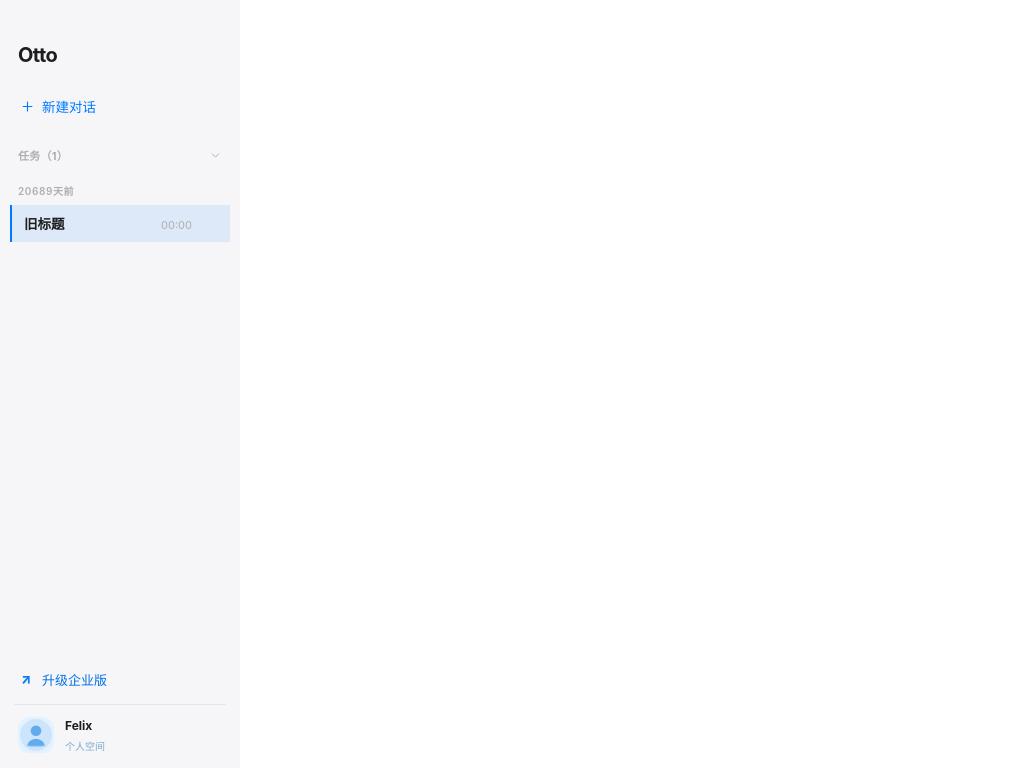
Test: Sidebar：布局（工具区已迁右侧面板） › 个人版可在客户端内提交企业邀请码升级，成功后关闭弹窗
The image size is (1024, 768).
Click the button "↗ 升级企业版" at {"x": 120, "y": 679}, box 14,663 -> 226,696
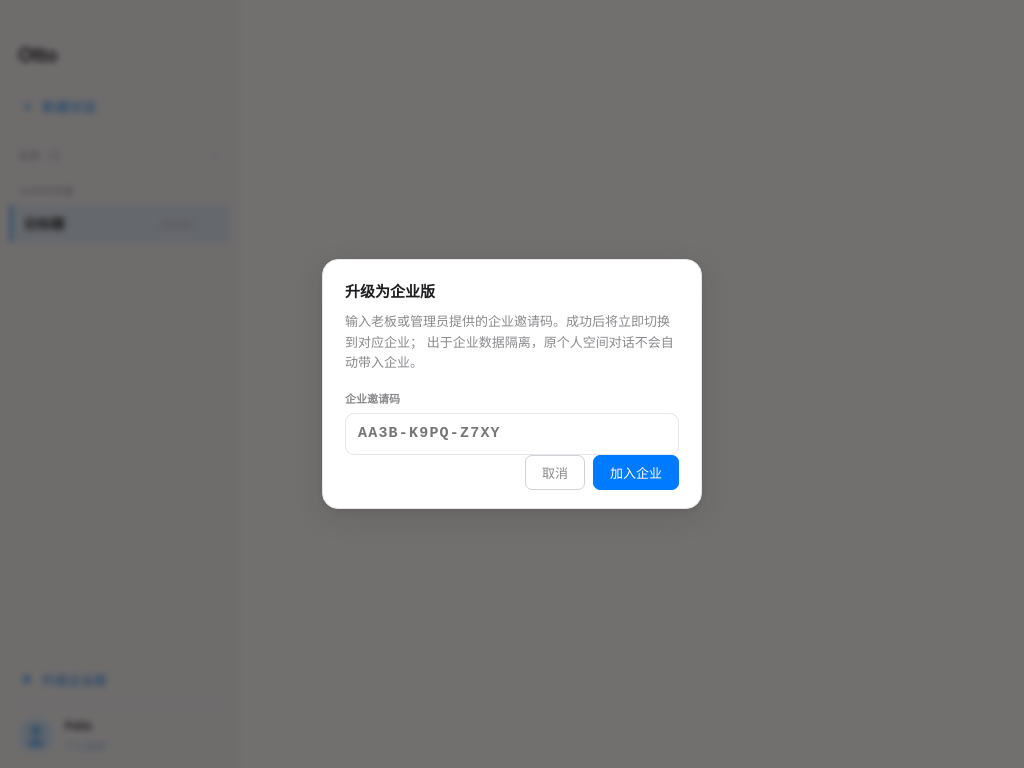
expect the text "输入老板或管理员提供的企业邀请码。成功后将立即切换到对应企业； 出于企业数据隔离，原个人空间对话不会自动带入企业。" is shown: met, box 345,311 -> 679,372
Type "Ab3D-k9Pq-Z7xY" into the field labelled "企业邀请码" at {"x": 512, "y": 434}, box 345,413 -> 679,455
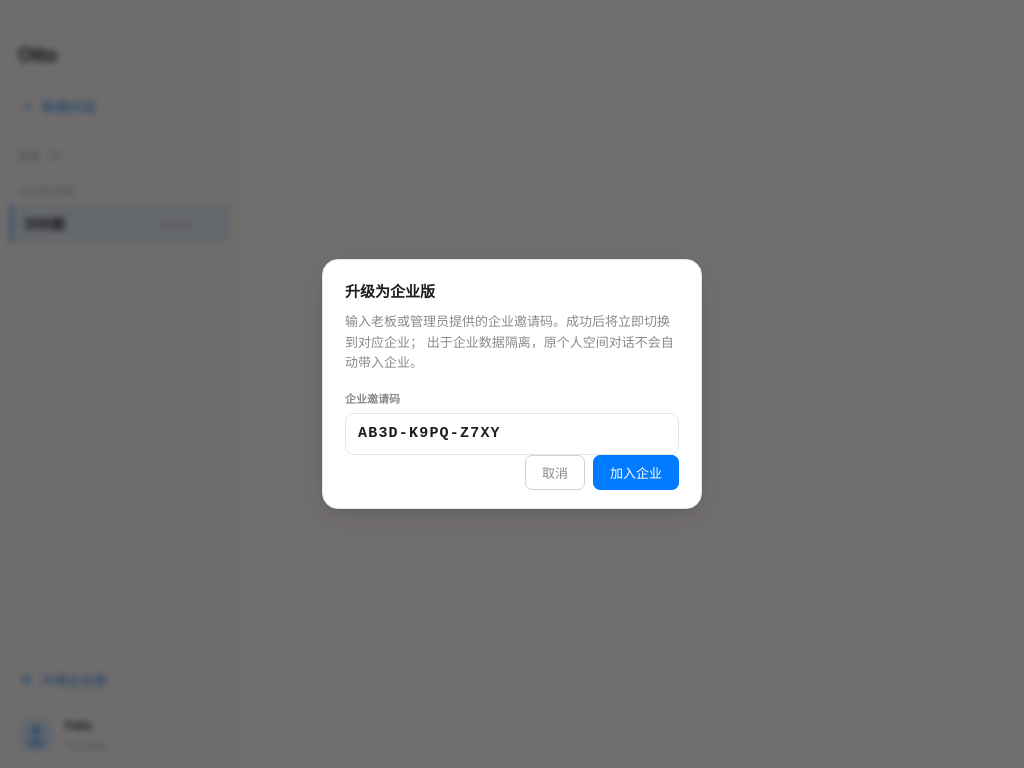
Click the button "加入企业" at {"x": 636, "y": 472}, box 593,455 -> 679,490
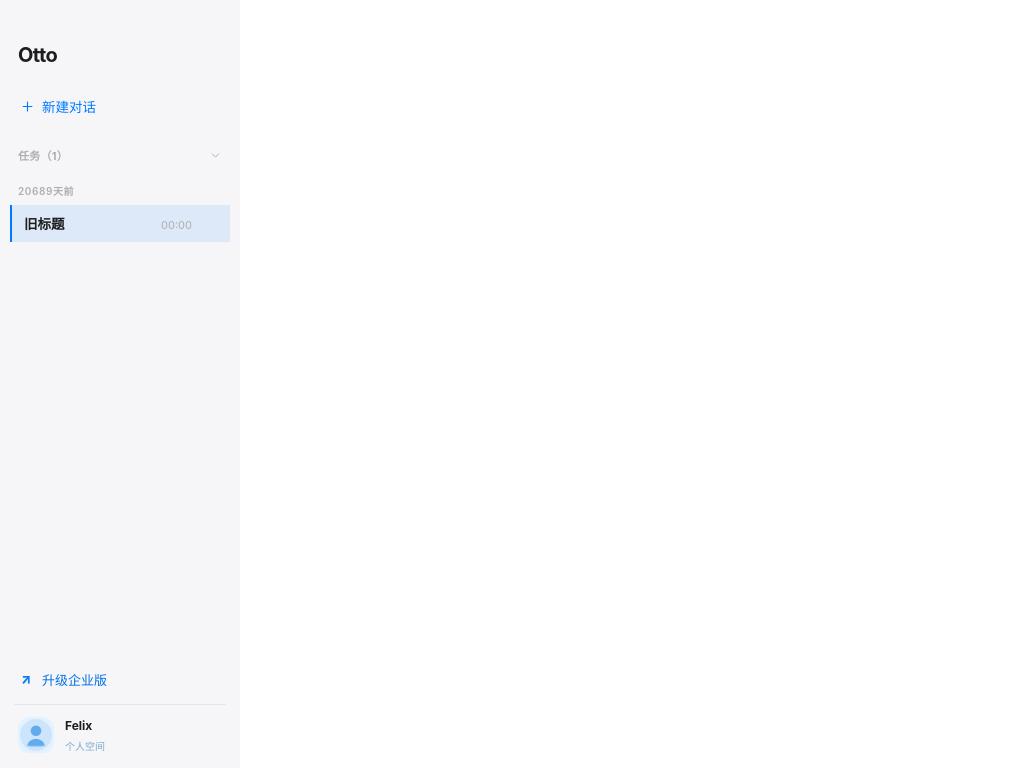
expect the heading "升级为企业版" is gone: met
